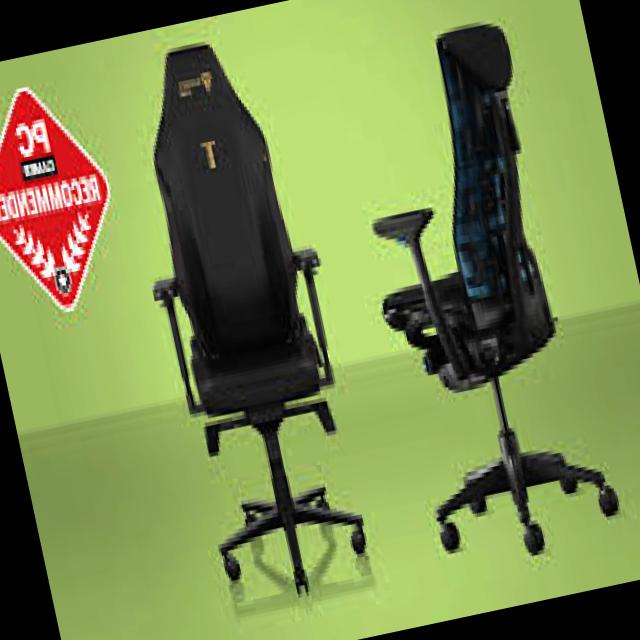obstacle: (92, 15, 421, 640), (311, 0, 640, 621)
